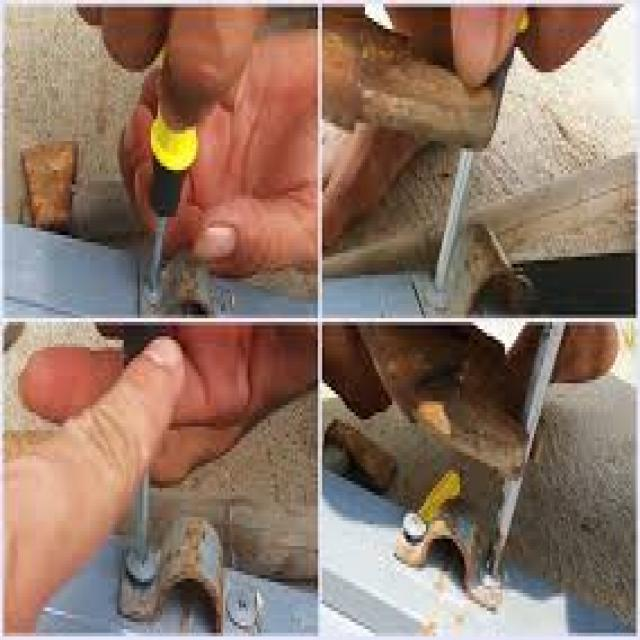screwdriver: (426, 0, 528, 304), (134, 14, 204, 304)
